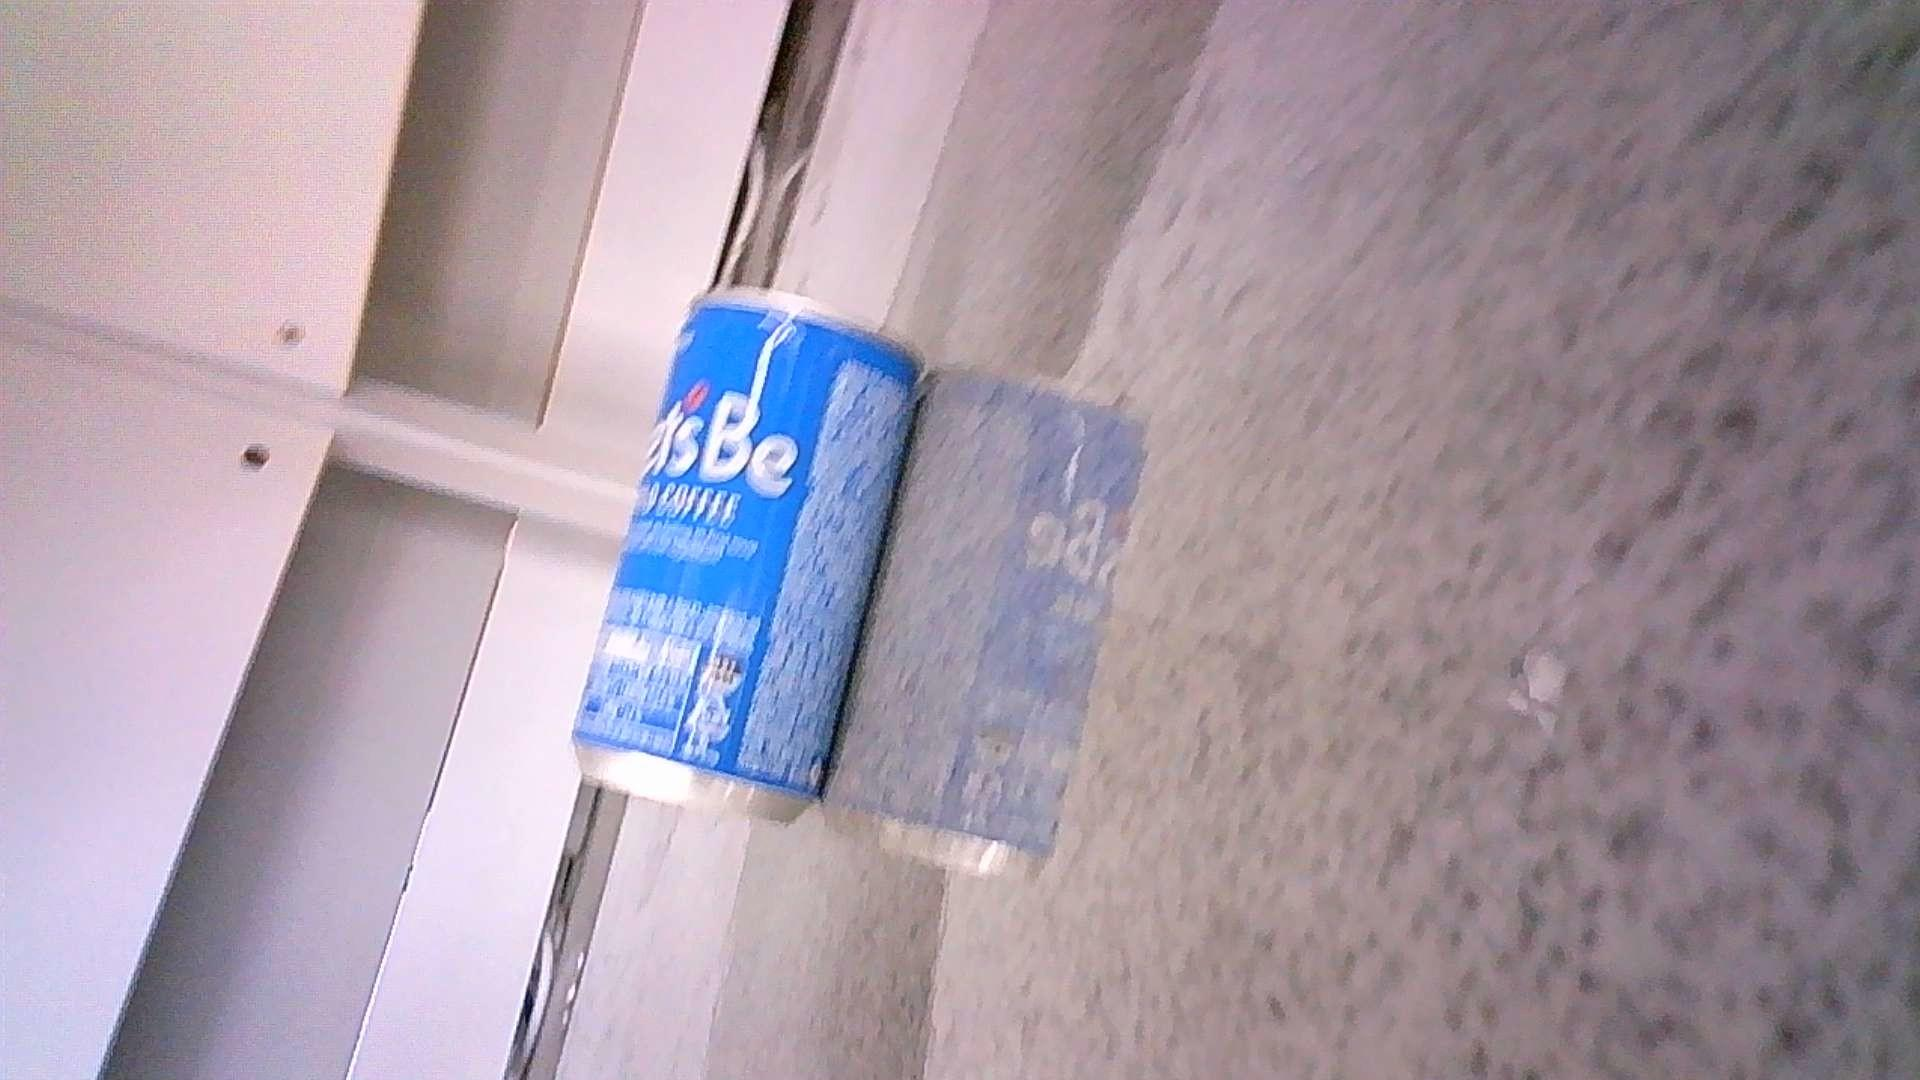letsbe: (566, 286, 928, 827)
